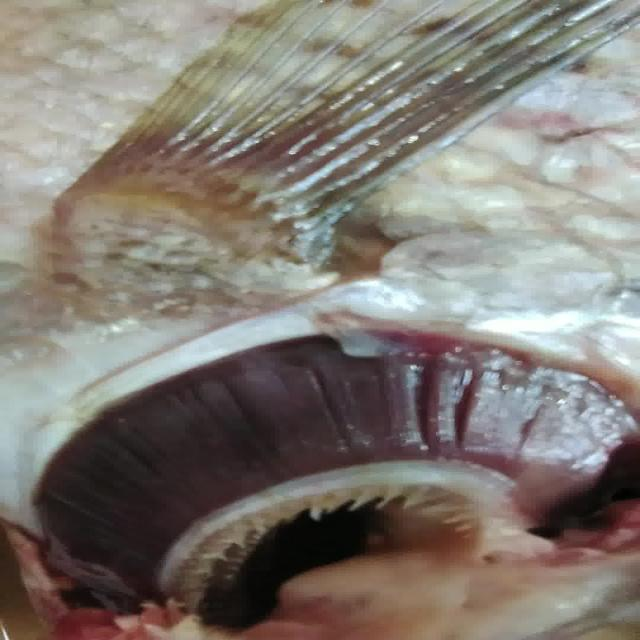Non-Fresh: (34, 310, 622, 581)
